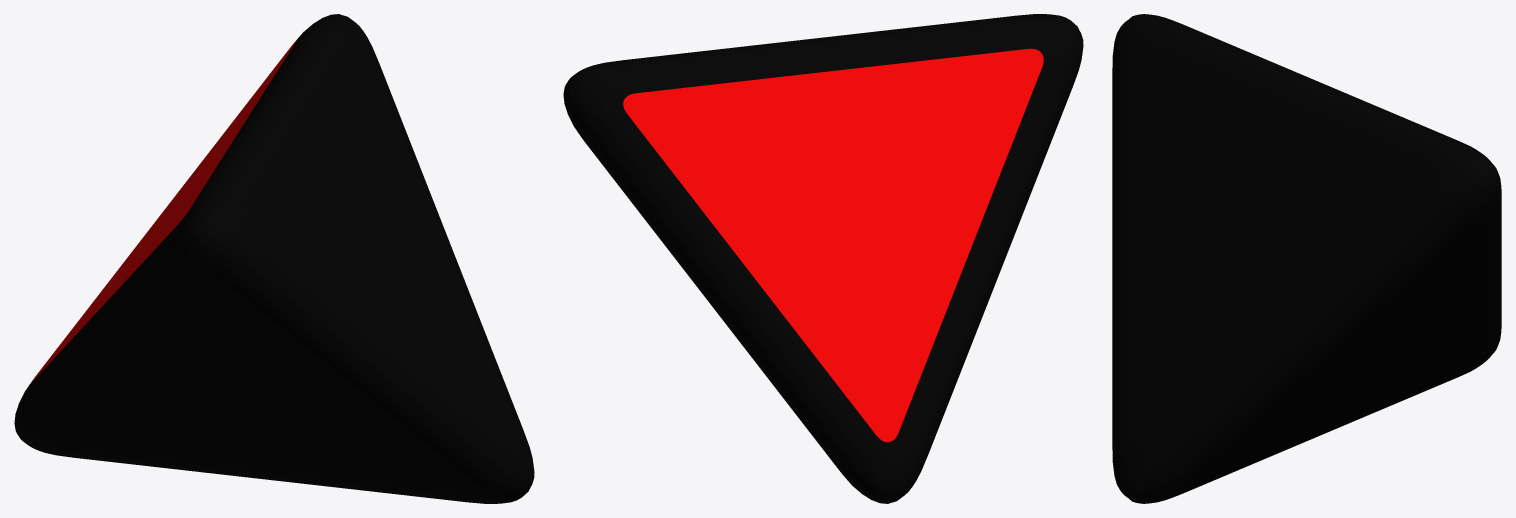
File: t_red.fbx
The picture shows the model from 3 angles, left to right: view 1: azimuth 30°, elevation 25°; view 2: azimuth 150°, elevation 25°; view 3: azimuth 270°, elevation 25°; orthographic projection. The views are drawn at different scales.
Parts seen in each view (by area): view 1: t_red; view 2: t_red; view 3: t_red.
Boxes of the visible parts, x1,y1,x2,y2 form: t_red: (14,14,534,503); t_red: (563,14,1083,503); t_red: (1112,14,1501,503).
Bounding box in the file's own units: 88.28 × 88.28 × 88.28.
